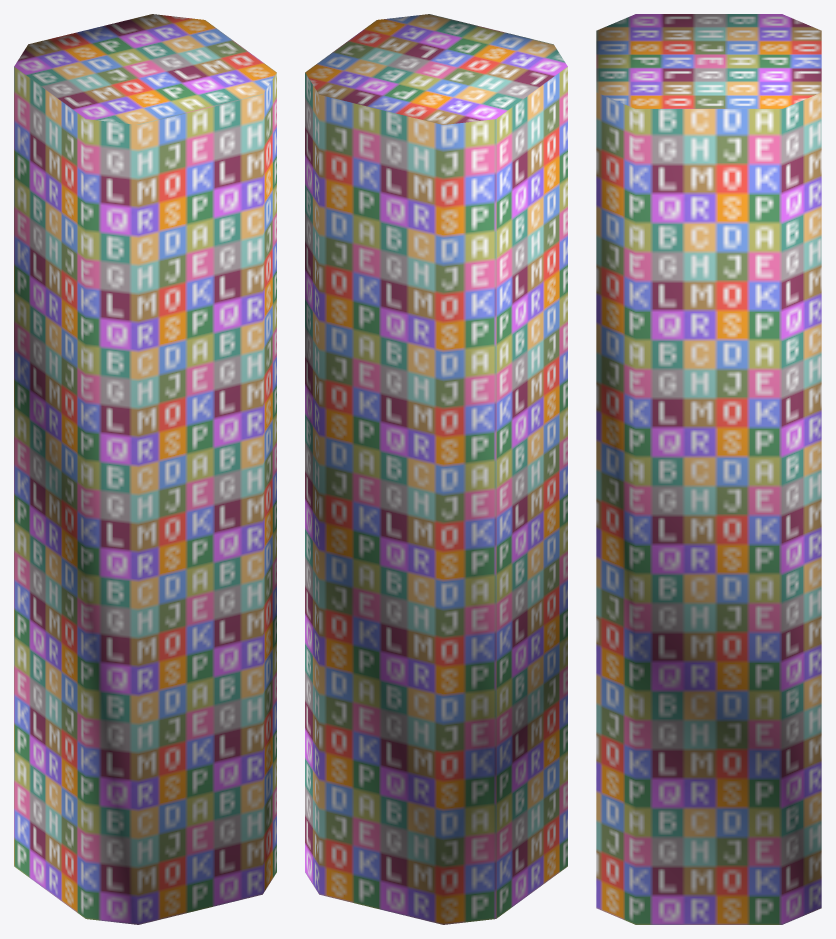
The model's file is pillar.obj.
3 views of the same model, side by side, from view 1: azimuth 30°, elevation 25°; view 2: azimuth 150°, elevation 25°; view 3: azimuth 270°, elevation 25° (orthographic).
Parts seen in each view (by area): view 1: cube1; view 2: cube1; view 3: cube1.
Part boxes in pixels (x1=…): cube1: x1=14, y1=14, x2=276, y2=924; cube1: x1=305, y1=14, x2=567, y2=924; cube1: x1=596, y1=14, x2=821, y2=924.
Size of the model in its own units: 2 by 8 by 2.
1 material, 1 textured.
